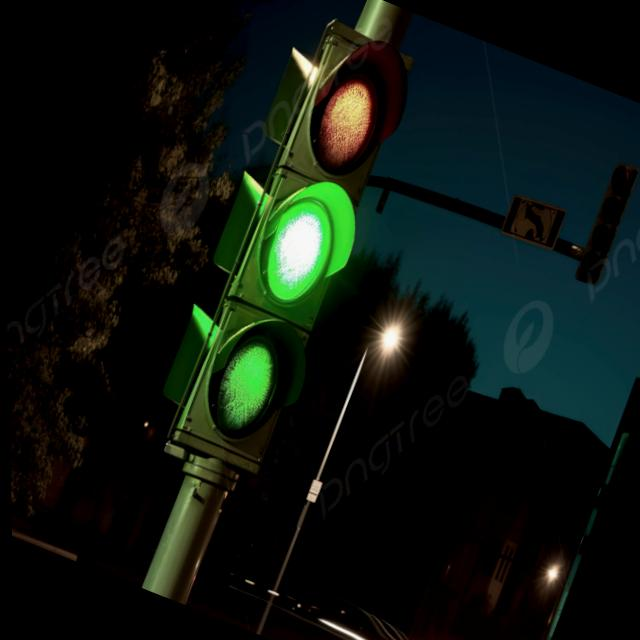Hijau: (248, 192, 344, 310)
Kuning: (304, 74, 385, 174)
